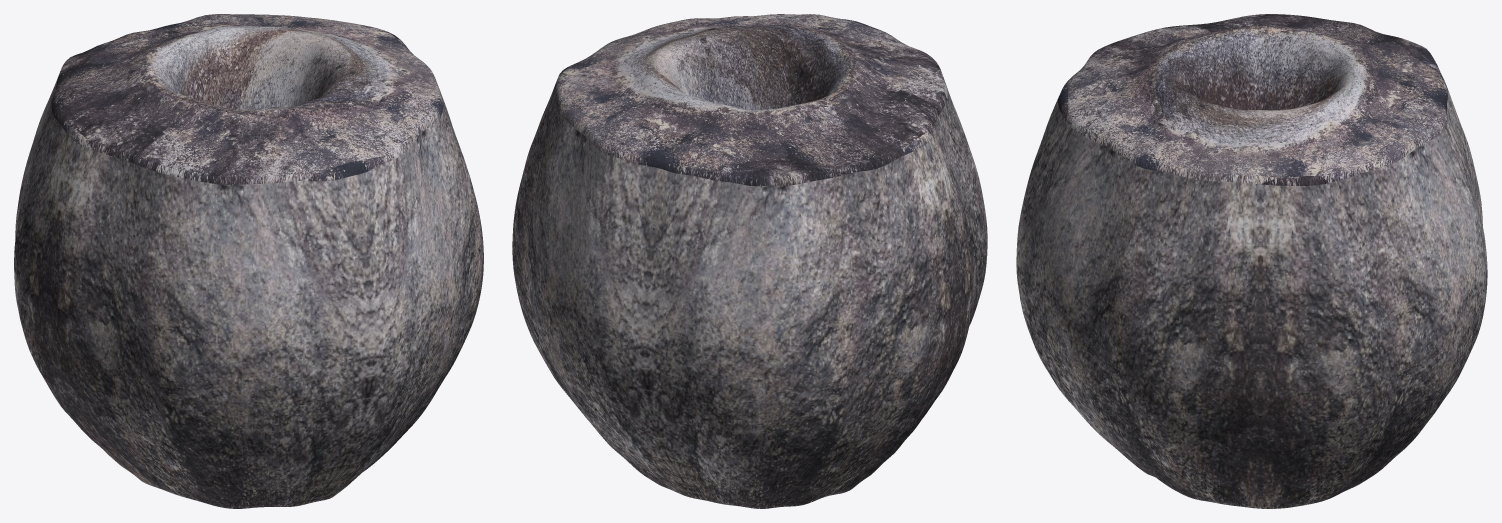
File: batu-cekungan.glb
3 views of the same model, side by side, from view 1: azimuth 30°, elevation 25°; view 2: azimuth 150°, elevation 25°; view 3: azimuth 270°, elevation 25° (orthographic).
Parts seen in each view (by area): view 1: Batu cekungan; view 2: Batu cekungan; view 3: Batu cekungan.
Boxes of the visible parts, left/top/right/bottom form: Batu cekungan: left=14, top=14, right=483, bottom=508; Batu cekungan: left=512, top=14, right=987, bottom=508; Batu cekungan: left=1016, top=14, right=1487, bottom=508.
Size of the model in its own units: 2.63 by 2.45 by 2.65.
2 materials, 2 textured.
